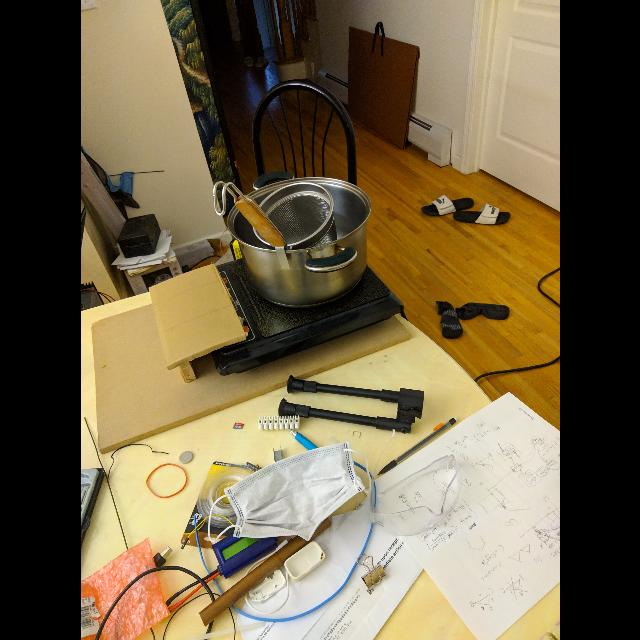Handle: (212, 180, 288, 244)
Strainer: (252, 182, 334, 244)
